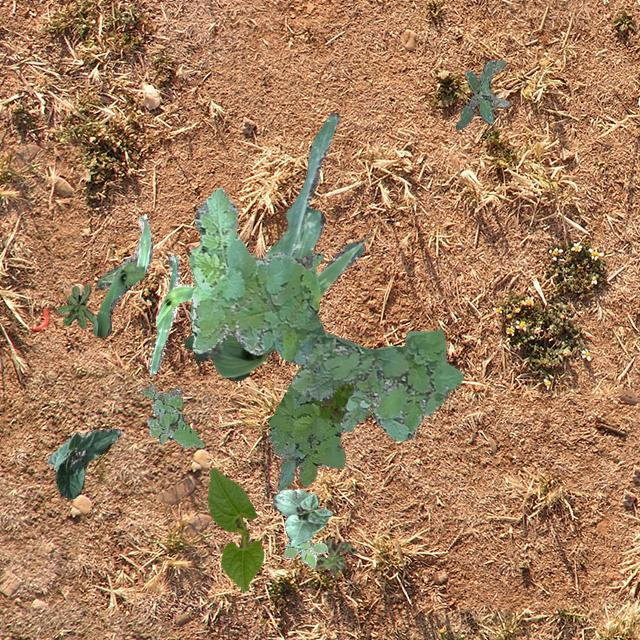crop: (188, 112, 364, 380), (91, 214, 150, 336), (206, 466, 262, 590), (146, 254, 194, 374), (46, 428, 120, 498), (272, 488, 332, 544)
weed: (188, 187, 462, 440), (268, 382, 370, 488), (140, 384, 202, 446), (454, 58, 508, 128), (56, 284, 95, 328), (314, 380, 354, 422), (314, 538, 356, 576), (282, 538, 326, 568), (182, 334, 222, 361)
